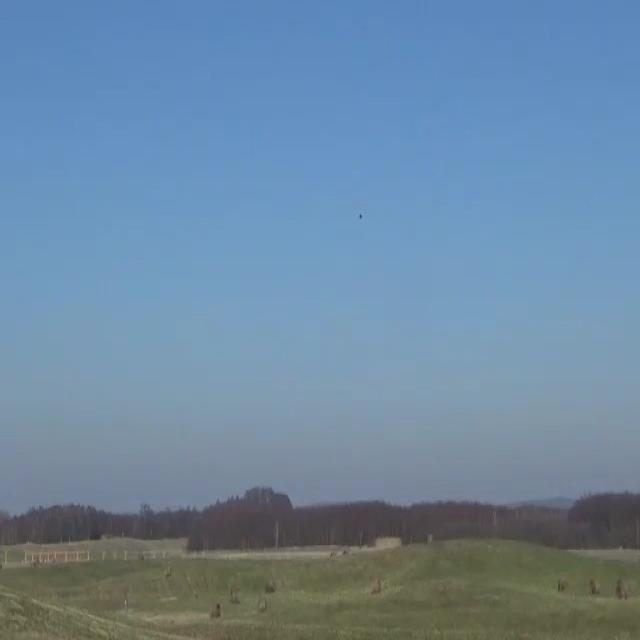bird: (358, 210, 366, 222)
